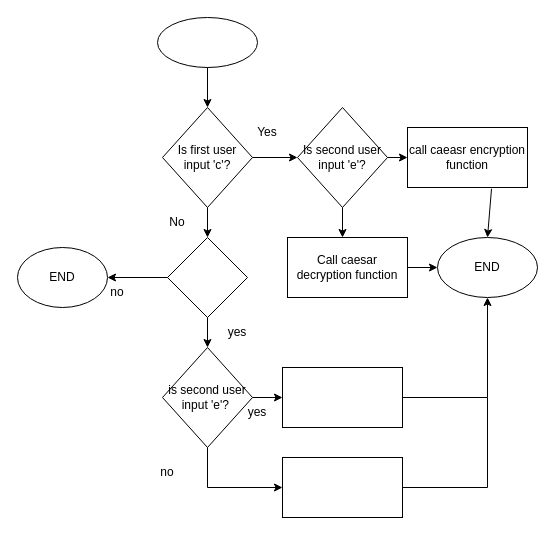
Some shapes in this 555 by 535 pixel diagram are drawn without their labels. Each missing label, with the centre of its shape:
"Call Vigenere Decryption function" goes at point (342, 487).
"Call Vigenere encryption function" goes at point (342, 397).
"Is first user input 'v'?" goes at point (207, 277).
"Start" goes at point (207, 42).
